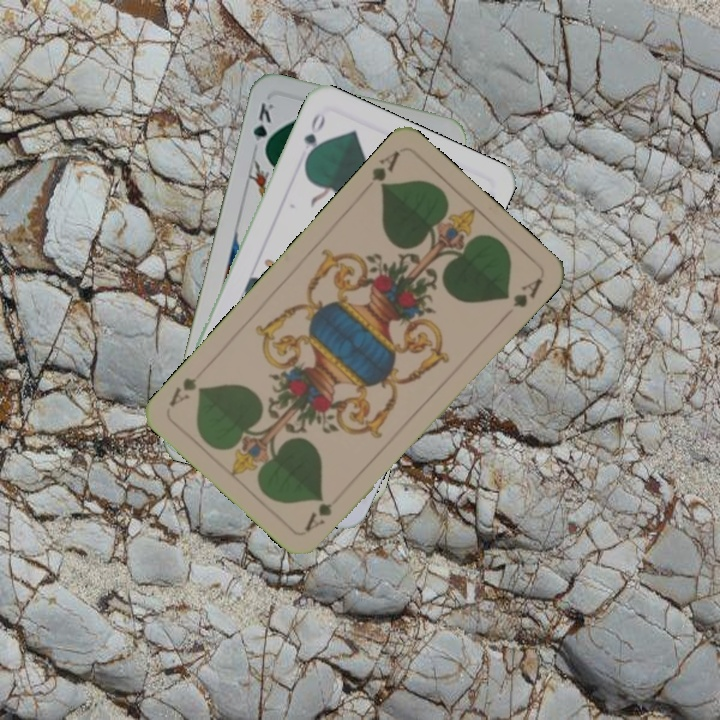GA: (301, 489, 347, 534), (367, 146, 403, 194)
GK: (249, 98, 276, 156)
GO: (300, 109, 328, 166)
